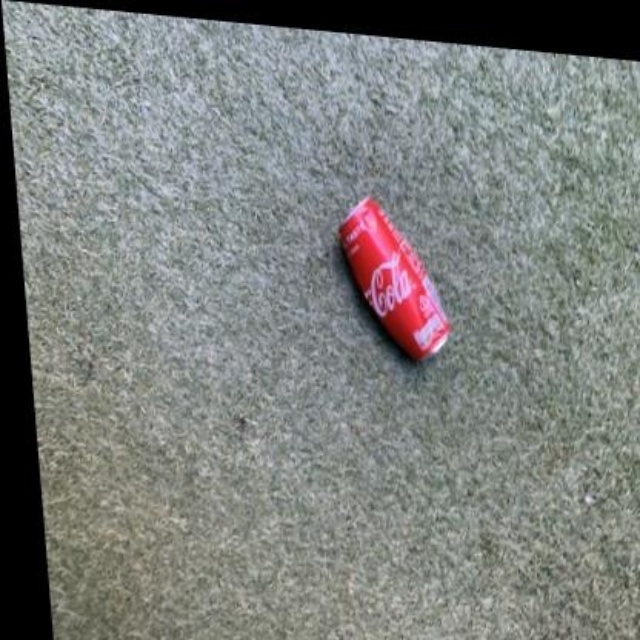trash: (338, 197, 448, 358)
